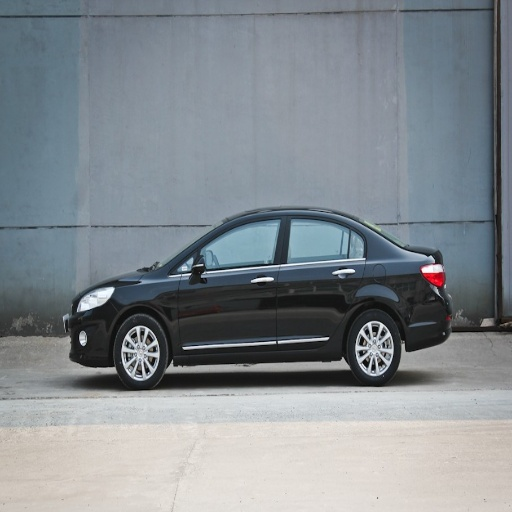back_left_door: (277, 213, 366, 347)
front_left_door: (178, 214, 283, 351)
